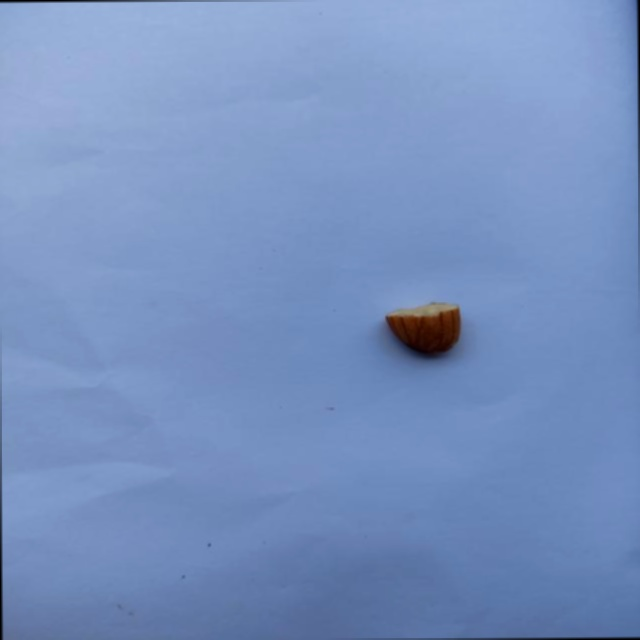grade4: (377, 298, 468, 361)
